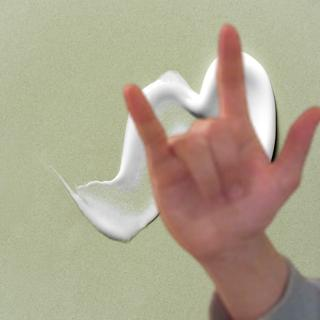ILY: (114, 17, 320, 265)
